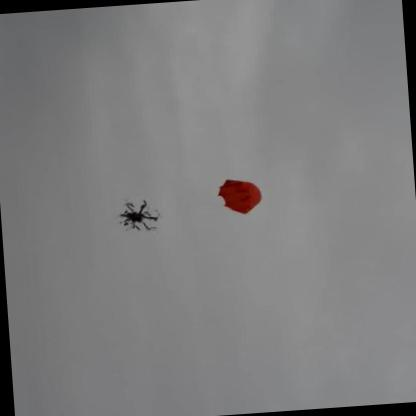drone: (112, 194, 162, 238)
